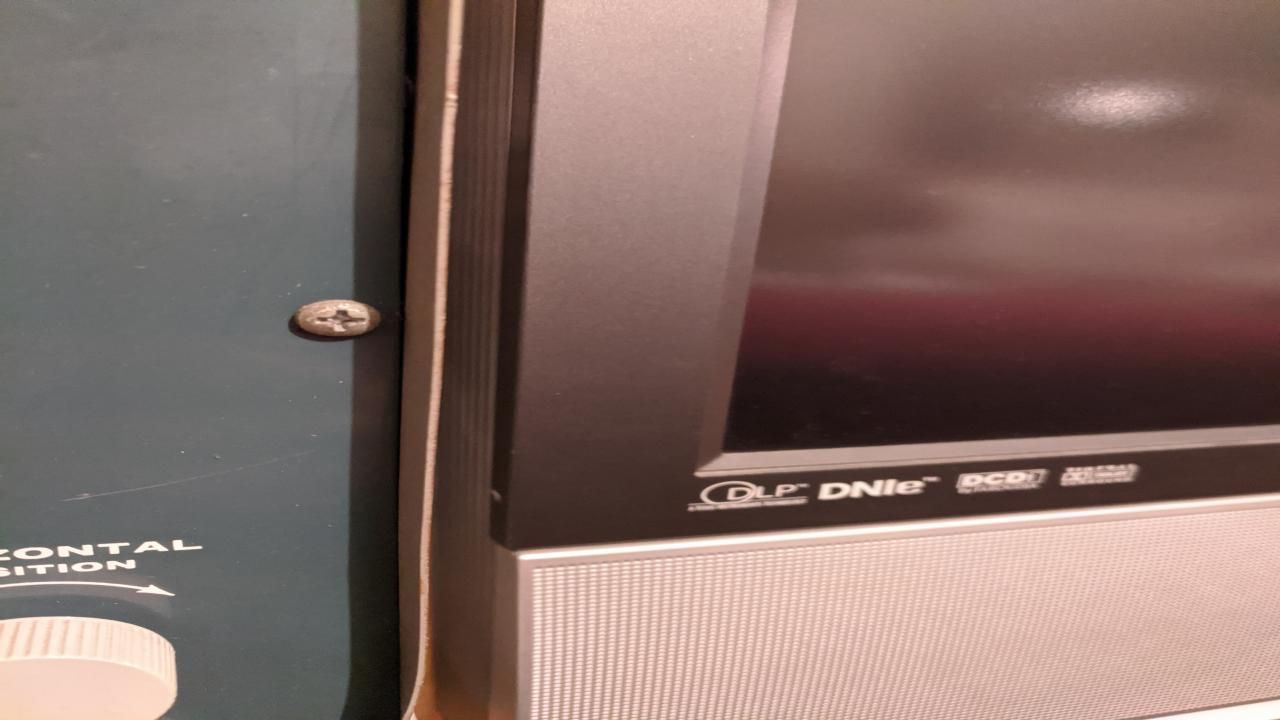CRS: (294, 300, 386, 340)
